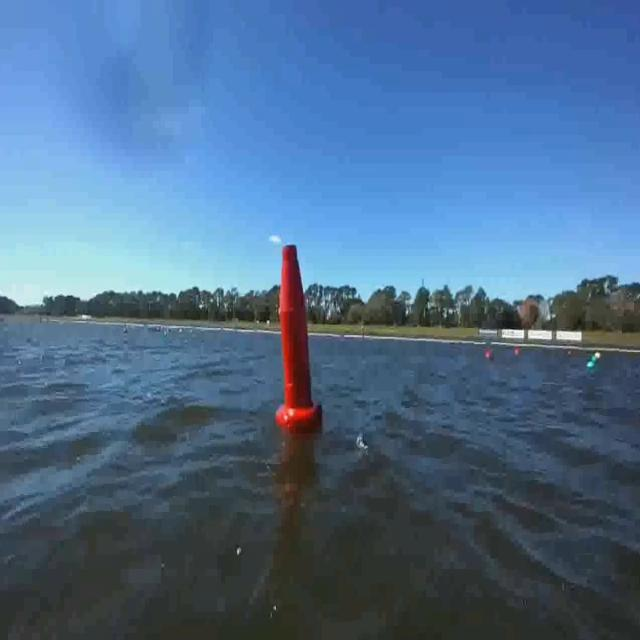green-buoy: (588, 358, 598, 368)
red-column-buoy: (276, 241, 320, 433)
